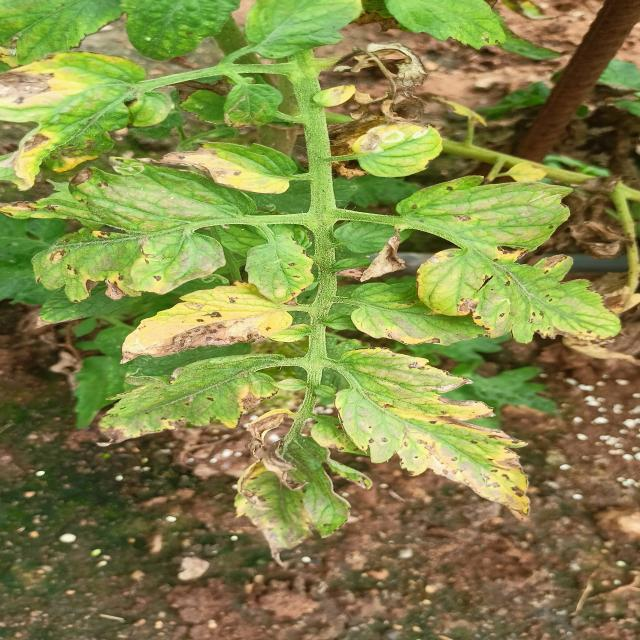Tomato mosaic virus leaf: (394, 174, 629, 346), (333, 347, 545, 516), (0, 174, 231, 306), (105, 276, 298, 367), (92, 368, 279, 448), (133, 138, 299, 198), (243, 236, 314, 308), (330, 230, 412, 288), (237, 408, 293, 466)
